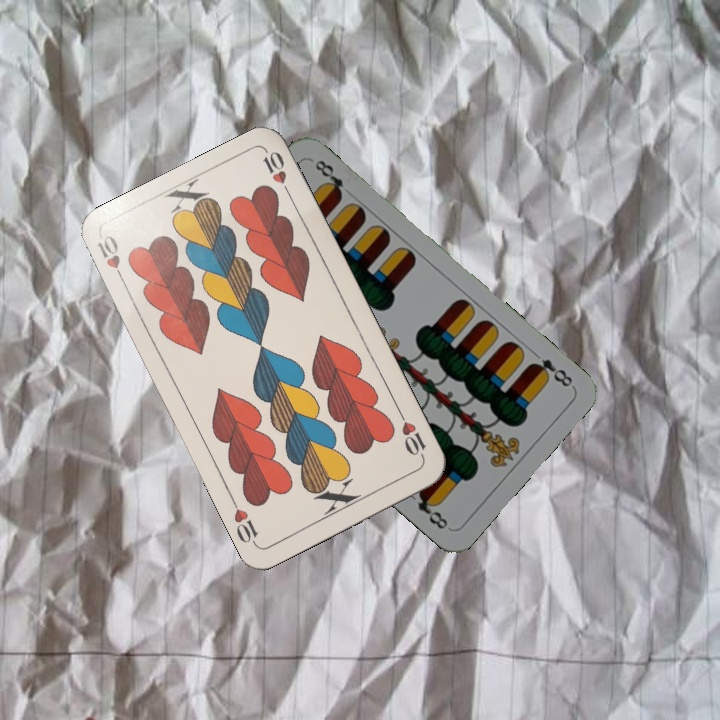E8: (525, 354, 576, 390)
H10: (93, 231, 129, 288), (394, 407, 429, 462)
